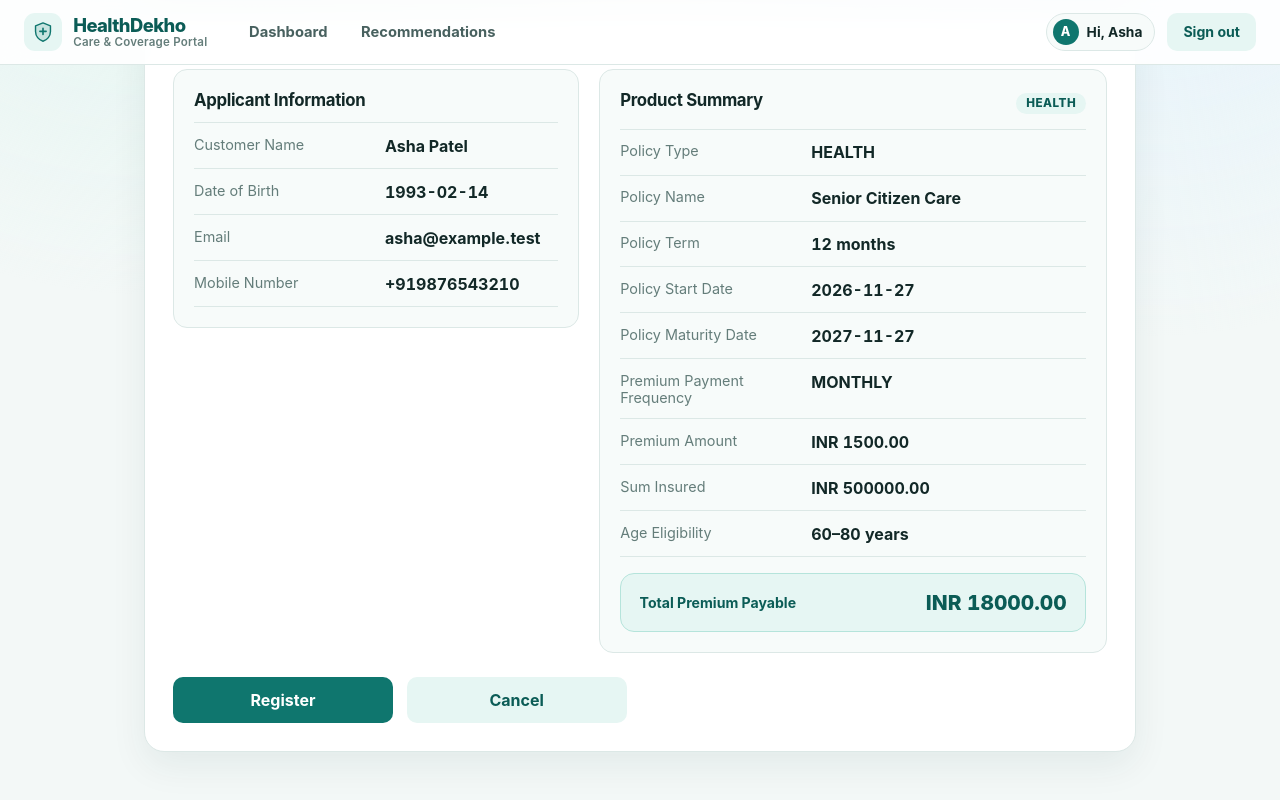
it: FR-1, FR-2 & FR-3 authentication, dashboard, recommendations, and policy registration flow › displays age eligibility error on registration page when server rejects
The image size is (1280, 800).
(page scrolled)
Expected: the text "Senior Citizen Care" is shown, [811, 188, 961, 208]
Step 1. Click the button "Register" → (283, 700), box [173, 677, 393, 723]
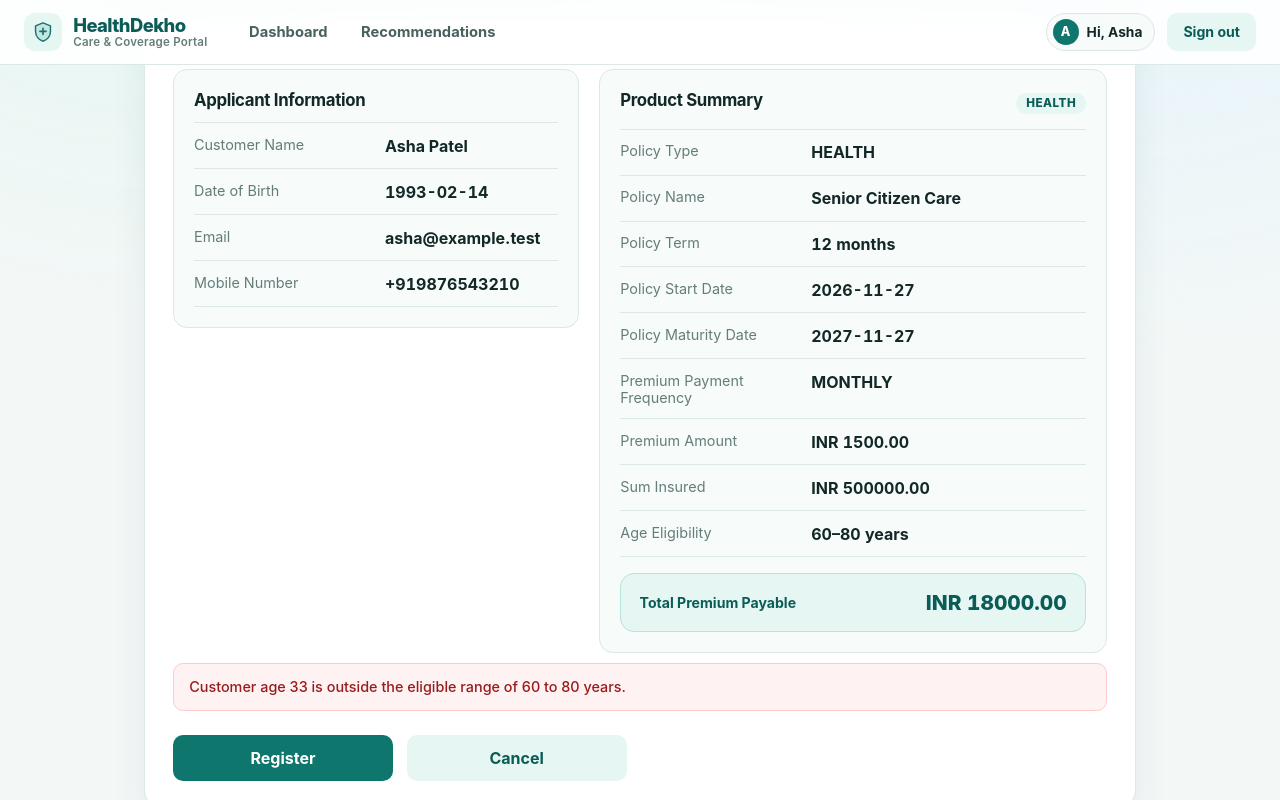
Expected: the message reads "Customer age 33 is outside the eligible range of 60 to 80 years.", [189, 678, 626, 694]
